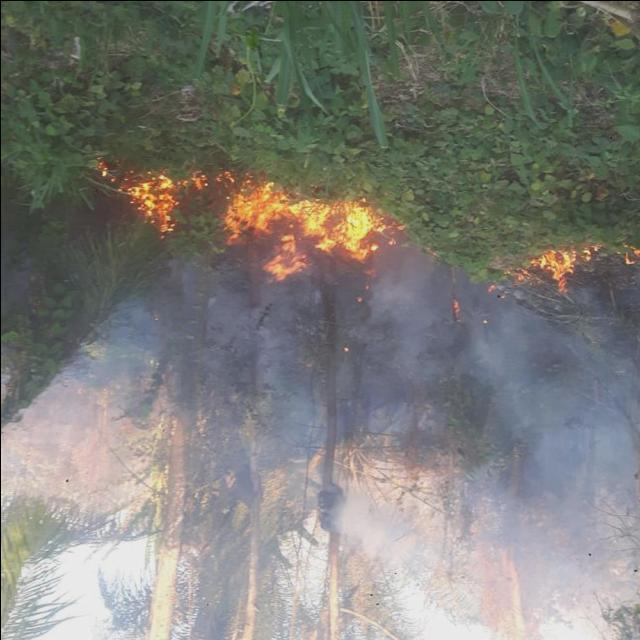Fire: (90, 158, 394, 286), (522, 243, 618, 298)
